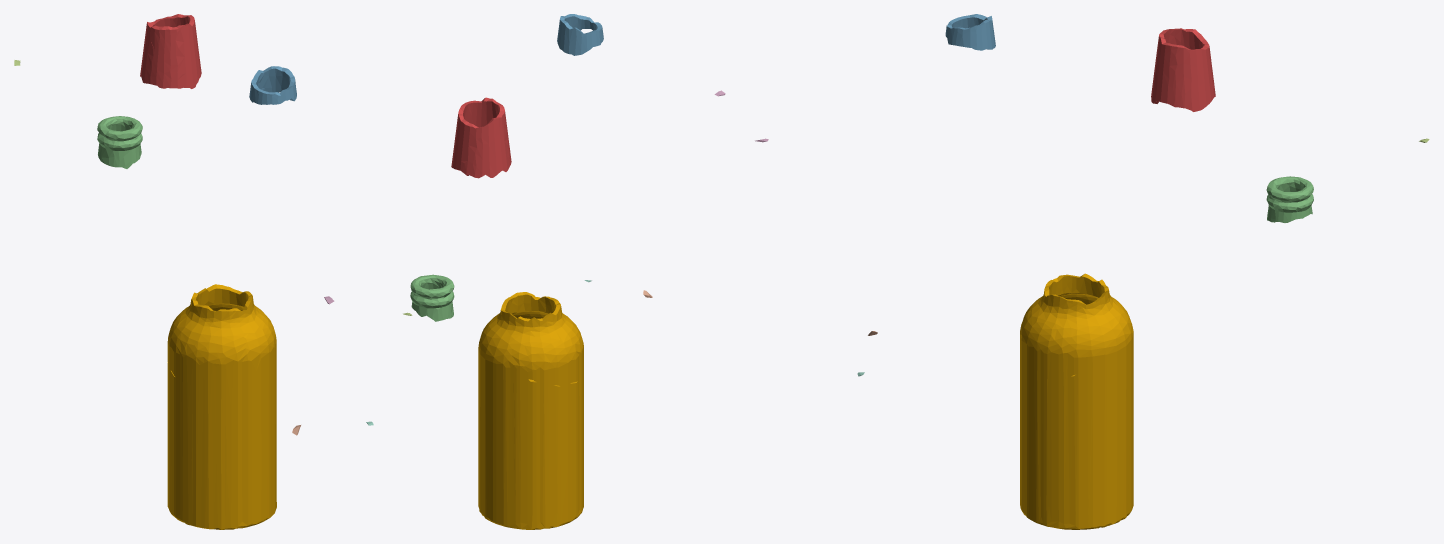
The model's file is fractured_72_8pcs_transformed.glb.
3 renders of one model, left to right at view 1: azimuth 30°, elevation 25°; view 2: azimuth 150°, elevation 25°; view 3: azimuth 270°, elevation 25°, orthographic. The views are drawn at different scales.
Visible parts, largest first — view 1: piece_0.obj, piece_1.obj, piece_3.obj, piece_2.obj; view 2: piece_0.obj, piece_1.obj, piece_3.obj, piece_2.obj; view 3: piece_0.obj, piece_1.obj, piece_3.obj, piece_2.obj.
Boxes of the visible parts, bbox=[...] form: piece_0.obj: bbox=[167, 284, 276, 529]; piece_1.obj: bbox=[140, 14, 201, 88]; piece_3.obj: bbox=[97, 116, 142, 168]; piece_2.obj: bbox=[249, 66, 296, 104]; piece_0.obj: bbox=[478, 292, 583, 529]; piece_1.obj: bbox=[451, 97, 511, 178]; piece_3.obj: bbox=[410, 274, 454, 321]; piece_2.obj: bbox=[557, 14, 603, 55]; piece_0.obj: bbox=[1020, 273, 1133, 529]; piece_1.obj: bbox=[1151, 28, 1215, 111]; piece_3.obj: bbox=[1266, 176, 1313, 222]; piece_2.obj: bbox=[945, 14, 995, 50].
Size of the model in its own units: 0.3199 by 1.52 by 1.9.
